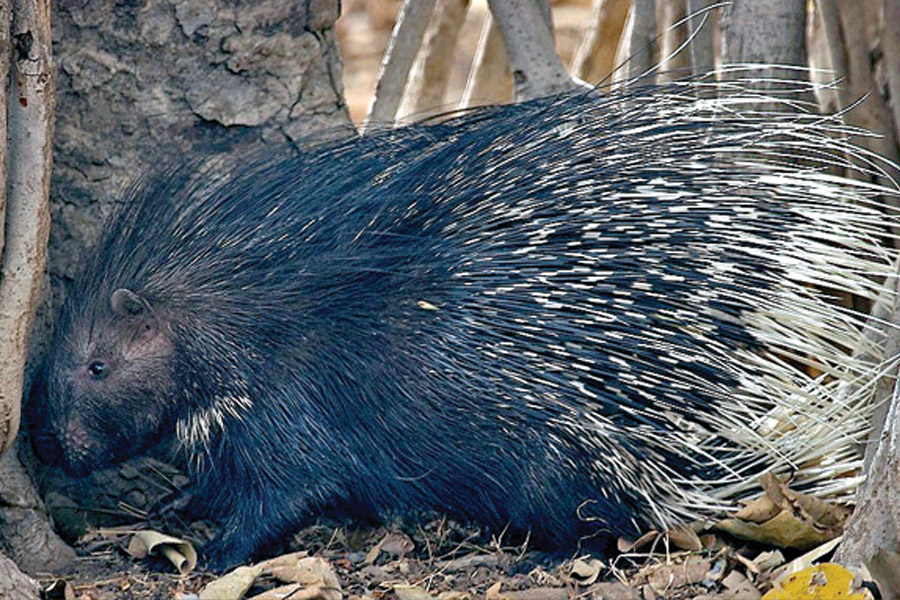porcupine: (35, 64, 887, 582)
